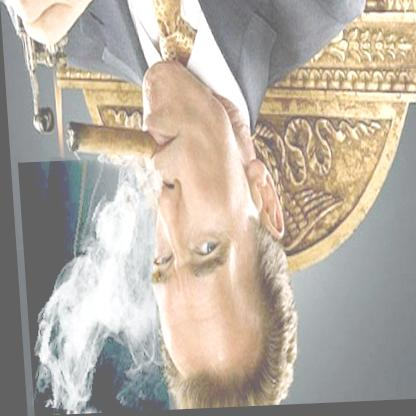smoke: (16, 158, 164, 416)
